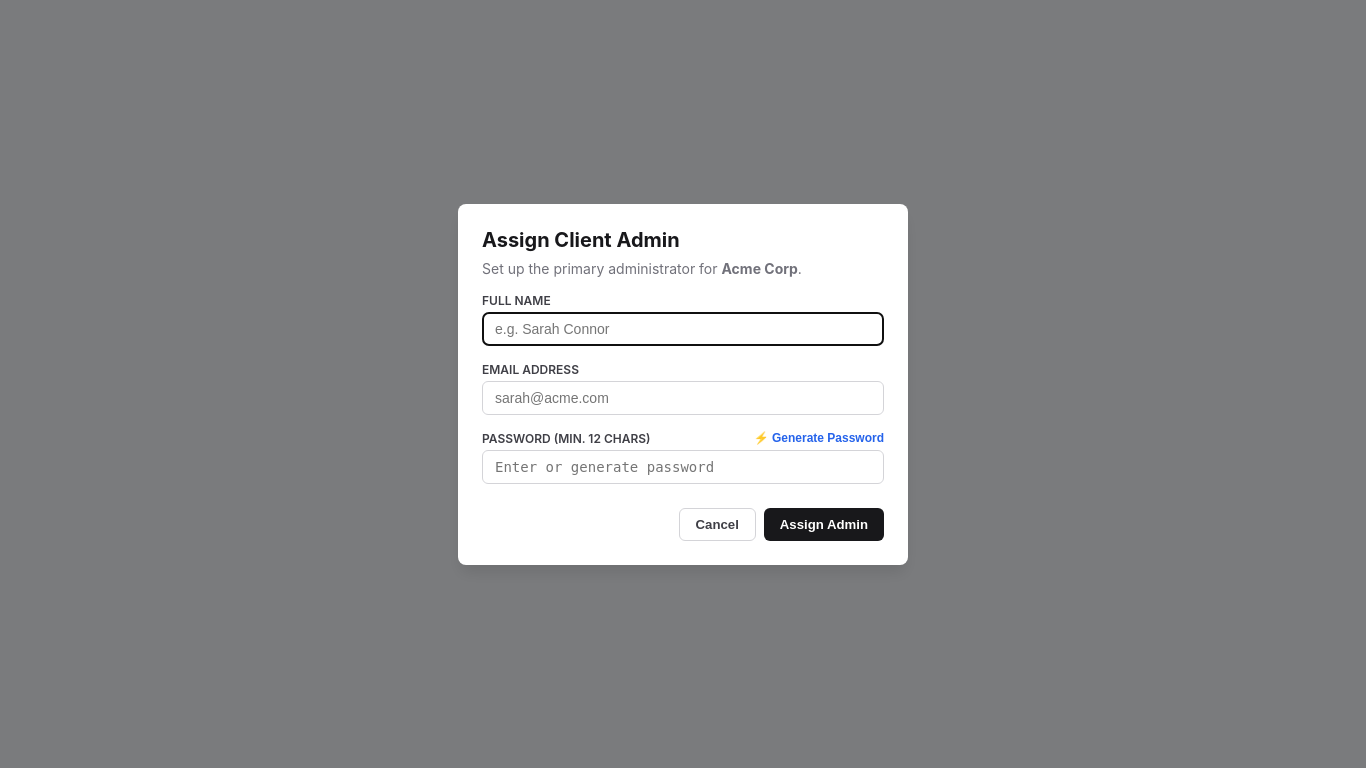
AssignAdminModal › should show error when full name is missing
Click the button "Assign Admin".
click(824, 524)  # box [764,508,884,540]
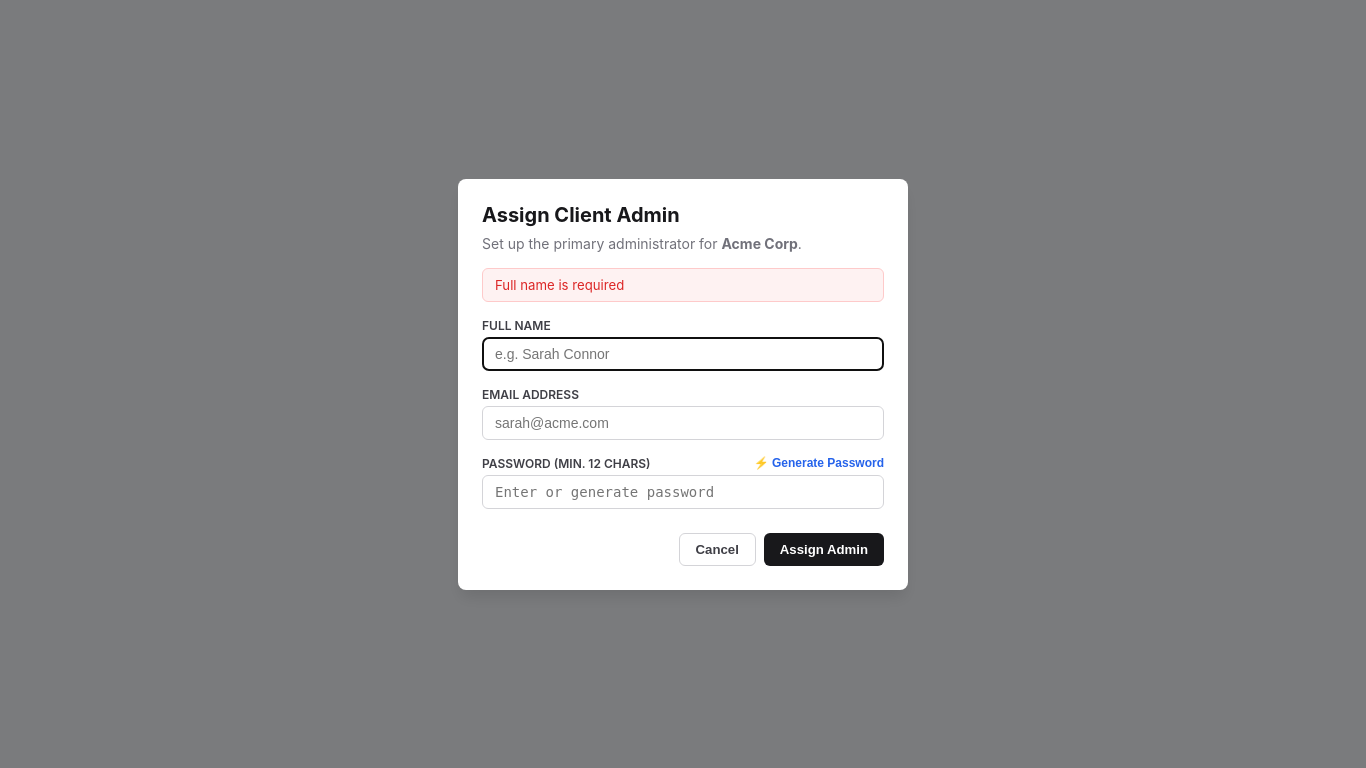
Expected: the text "Full name is required" is shown, [482,268,884,302]
